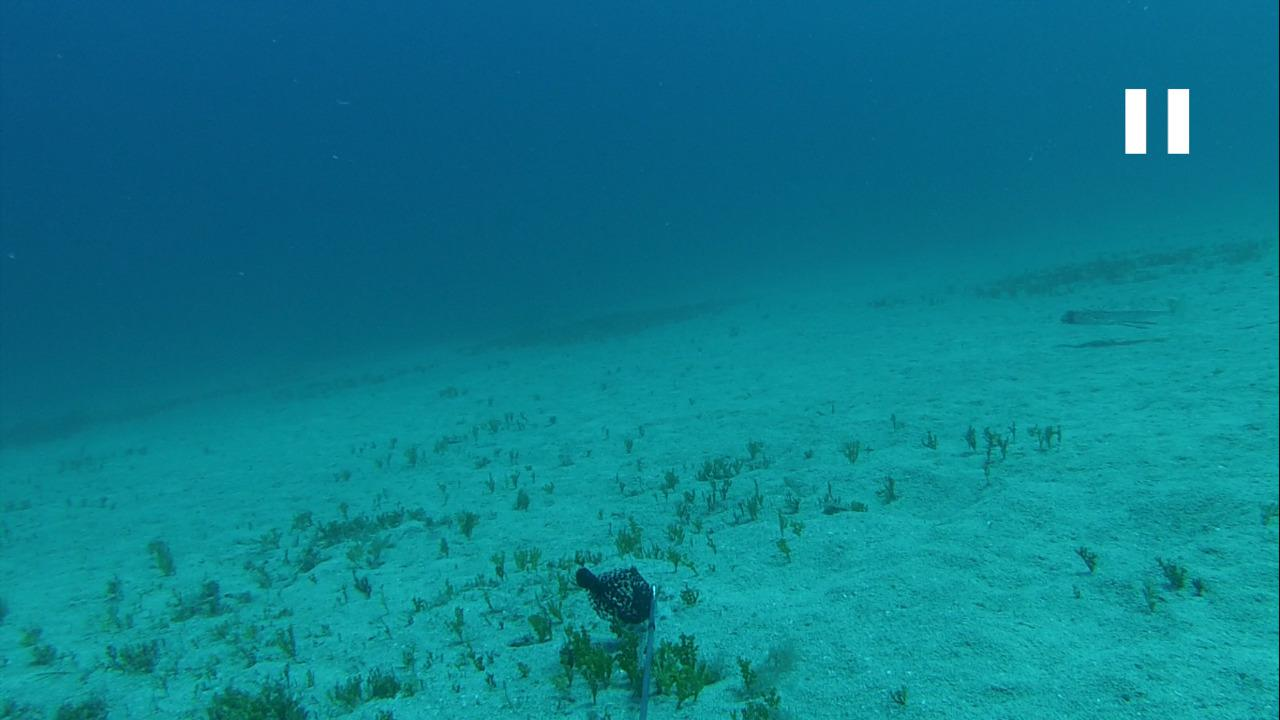dactylopterus: (1048, 287, 1177, 339)
